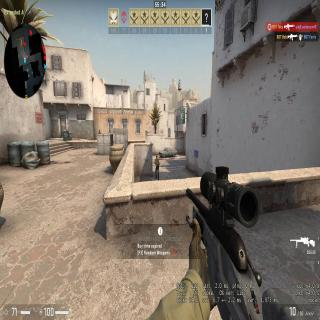T-Body: (154, 155, 160, 176), (98, 129, 102, 134)
T-Head: (156, 155, 157, 159), (99, 130, 101, 132)
